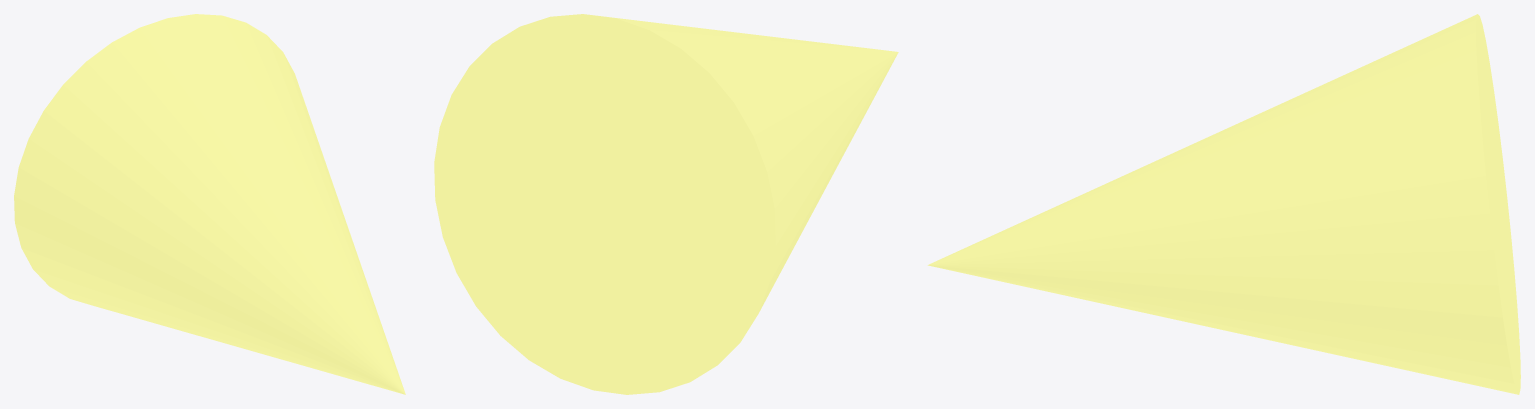
File: jet.glb
3 views of the same model, side by side, from view 1: azimuth 30°, elevation 25°; view 2: azimuth 150°, elevation 25°; view 3: azimuth 270°, elevation 25° (orthographic). The views are drawn at different scales.
Parts seen in each view (by area): view 1: Cone; view 2: Cone; view 3: Cone.
Boxes of the visible parts, box(x1,y1,x2,y2) form: Cone: box(14, 14, 405, 394); Cone: box(434, 14, 898, 394); Cone: box(927, 14, 1520, 394).
Bounding box in the file's own units: 0.2 × 0.1986 × 0.3096.
